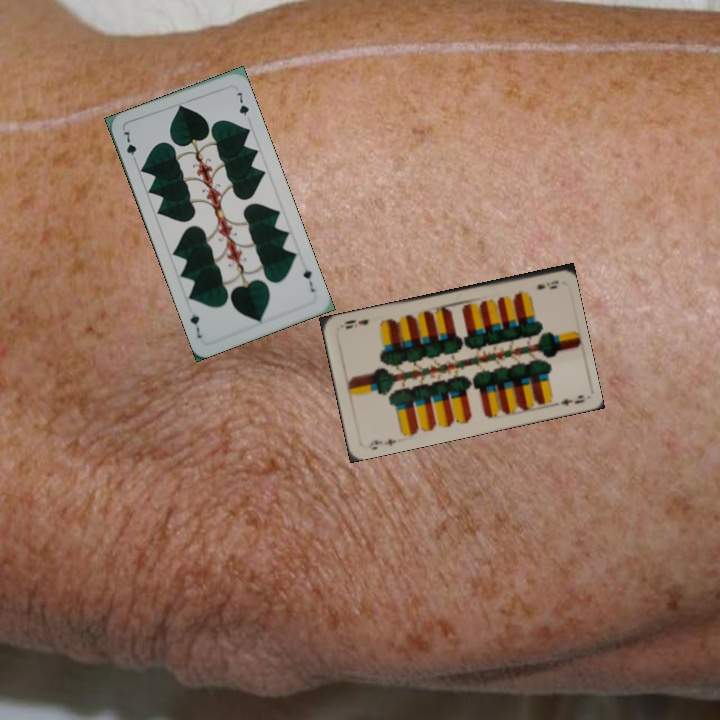E9: (364, 435, 399, 453), (532, 276, 561, 292)
G7: (117, 127, 140, 166), (299, 265, 318, 295)
